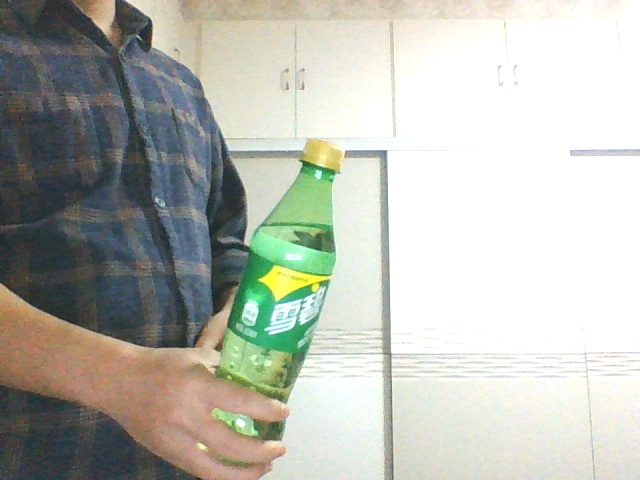Sprite: (201, 138, 345, 467)
